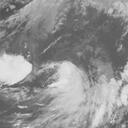cyclone: (46, 60, 88, 114)
